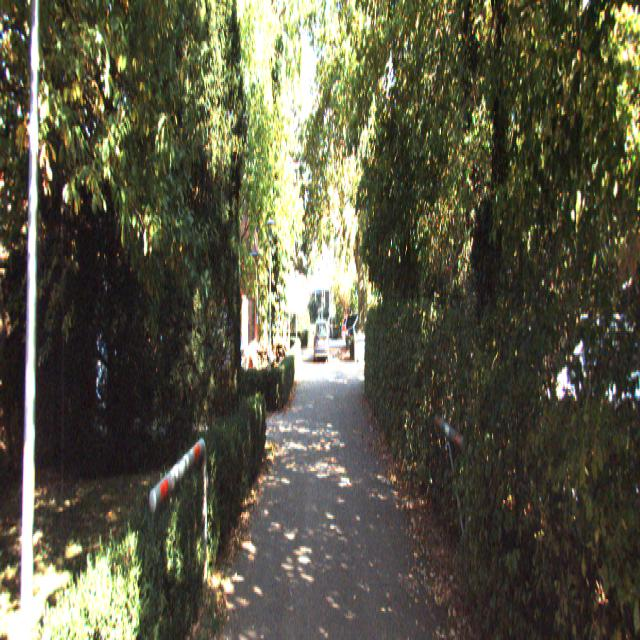Car: (314, 317, 329, 363)
